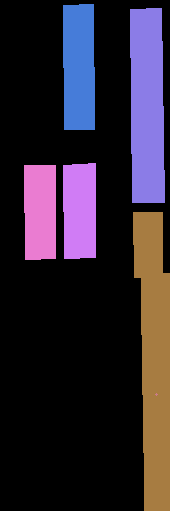parkingspot: (130, 8, 164, 202), (63, 4, 94, 129), (141, 273, 170, 394), (143, 394, 170, 511), (63, 163, 95, 258), (24, 165, 55, 259), (133, 212, 162, 277)
